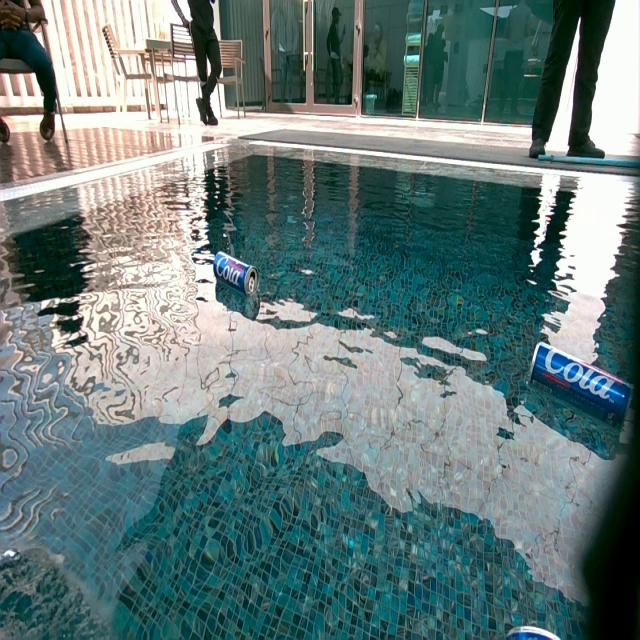Cans: (529, 343, 637, 424), (214, 253, 258, 298), (503, 625, 579, 640)
